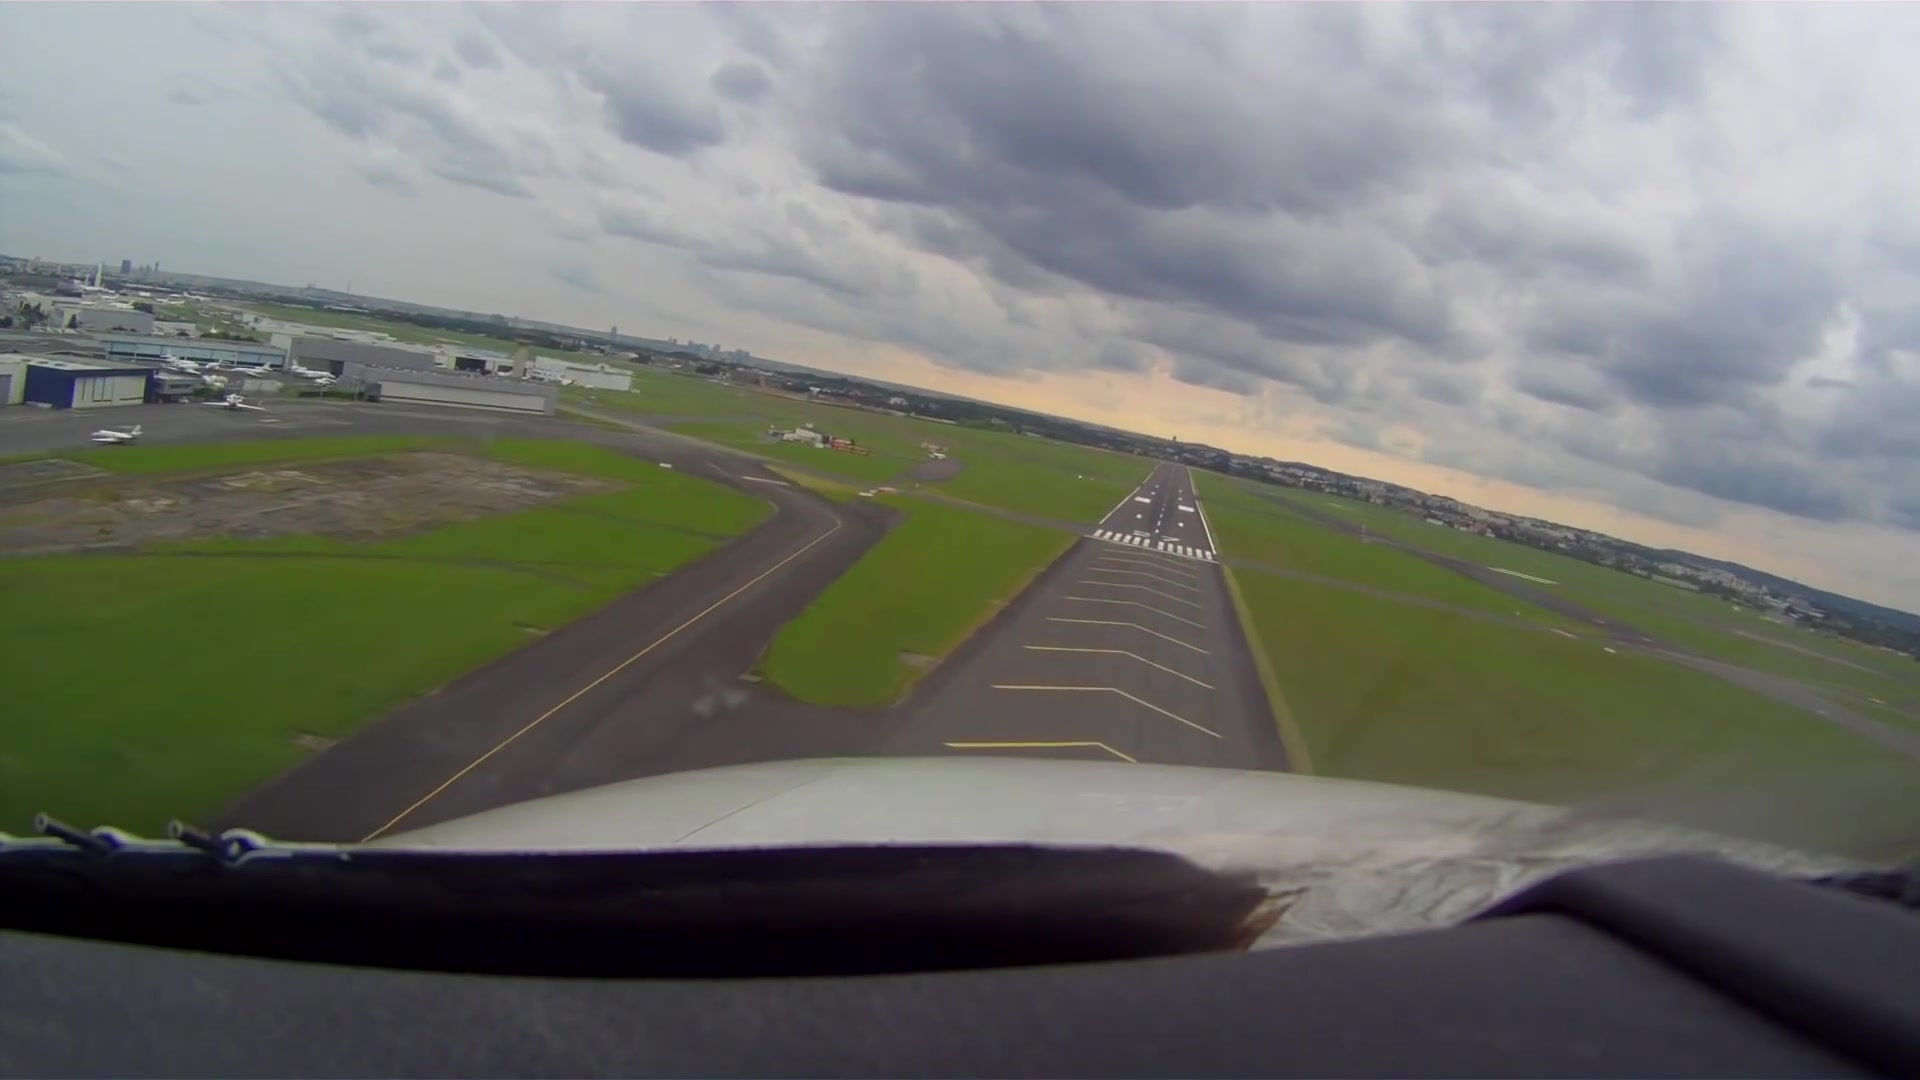entrance: (1093, 529, 1212, 560)
runway: (1091, 460, 1222, 564)
